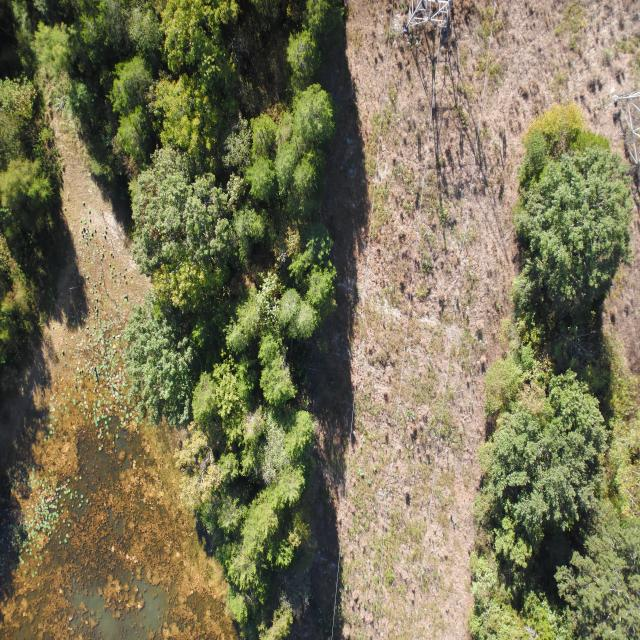Area of Interest: (2, 9, 314, 636), (477, 129, 636, 640)
